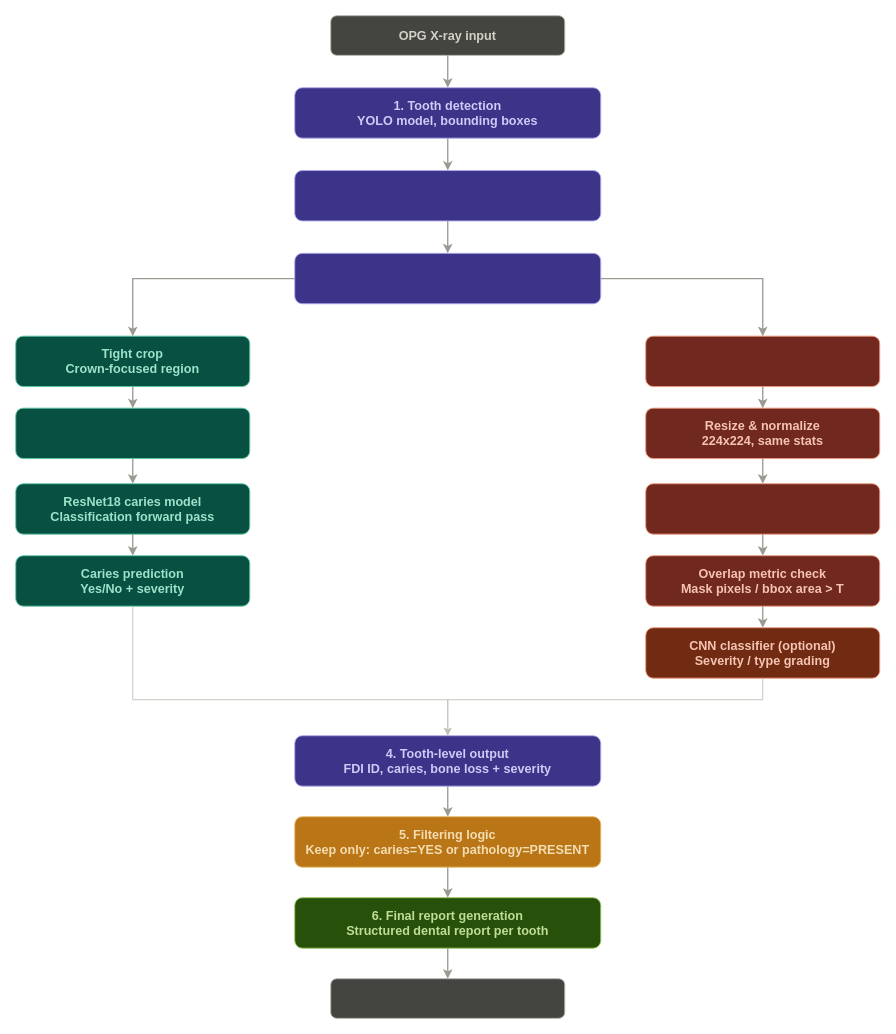
Image size: 896x1034. Some labels were removed from this diagram. Here are the shapes that lost their labels. From the top down, the centre of each, then its label:
[447,195]: 2. Sorting & indexing FDI numbering (11-48)
[447,278]: 3. Per-tooth processing loop
[762,361]: Expanded crop Surrounding bone region
[132,433]: Resize & normalize 224x224, ImageNet stats
[762,508]: Pathology localization Pixel-level mask mapping
[447,998]: Structured dental report
